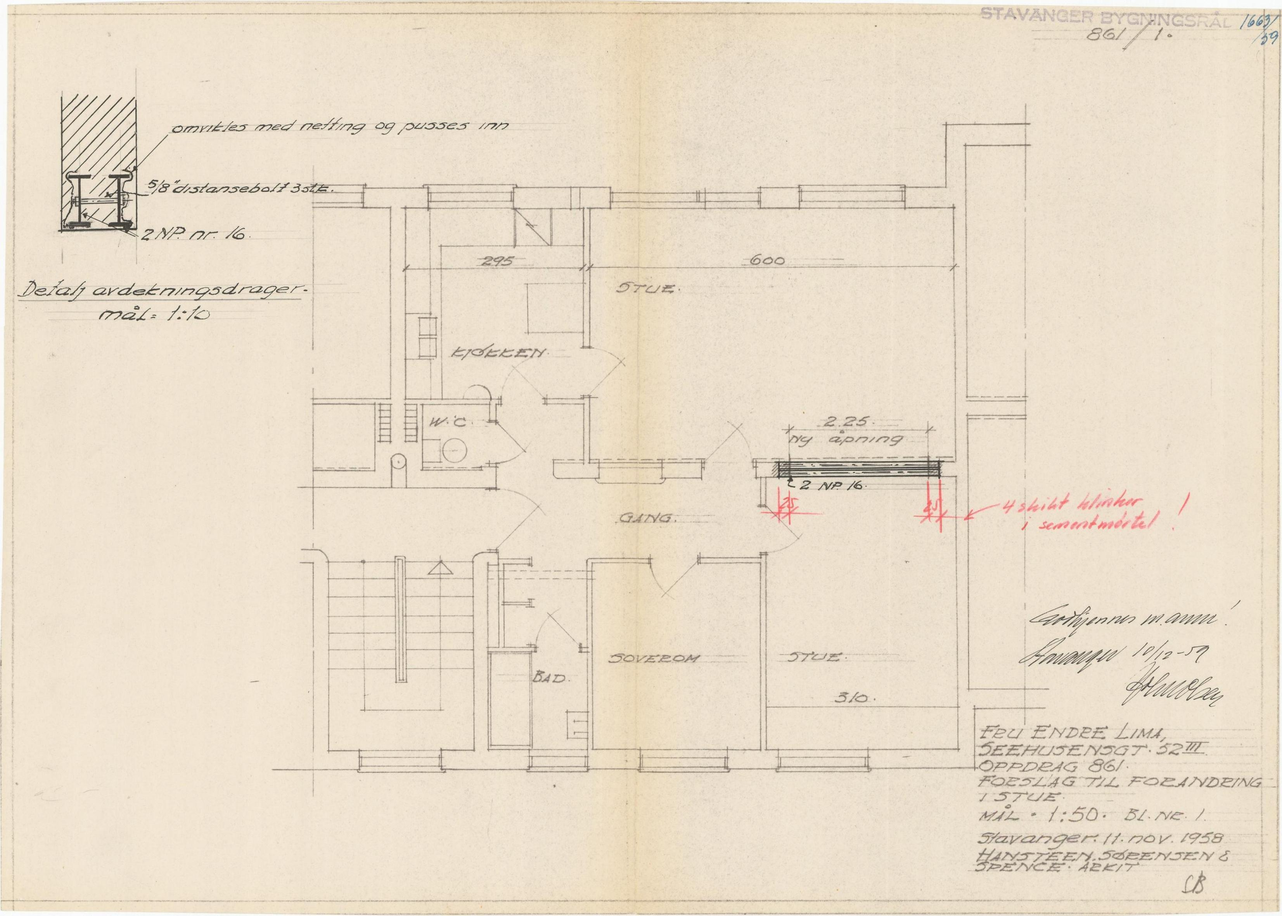plantegning: (308, 125, 1031, 772)
